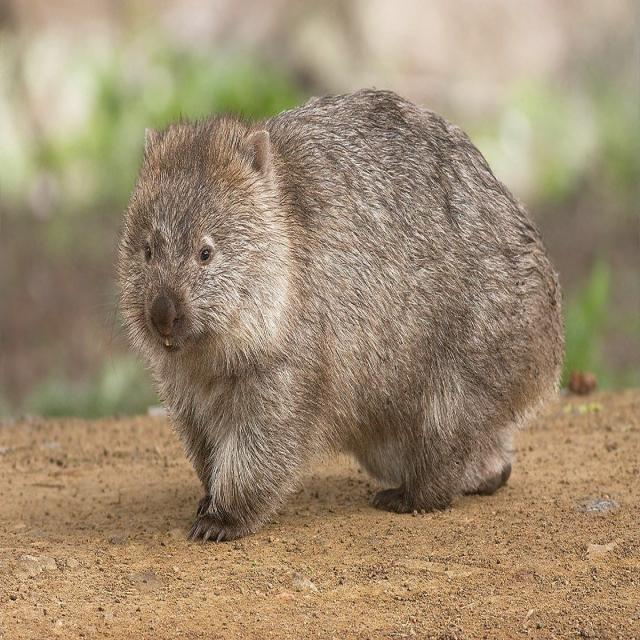wombats: (117, 90, 563, 541)
